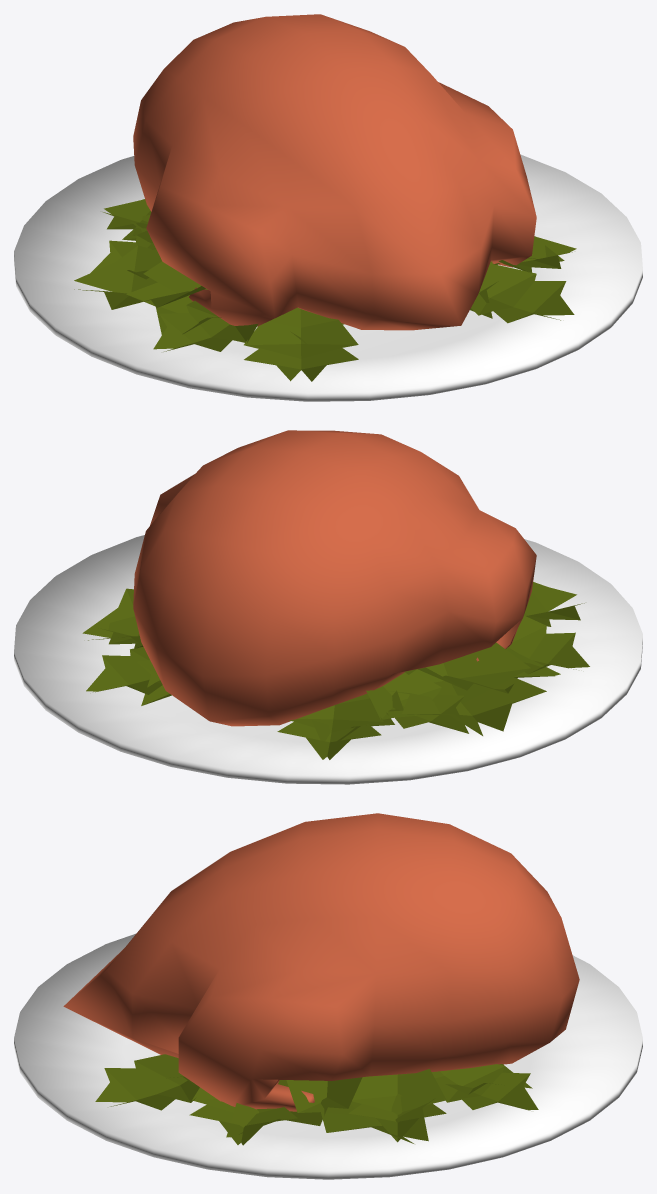
Rendered from Turkey.fbx.
3 renders of one model, top to bottom at view 1: azimuth 30°, elevation 25°; view 2: azimuth 150°, elevation 25°; view 3: azimuth 270°, elevation 25°, orthographic.
Parts seen in each view (by area): view 1: Cube, Cylinder, Cube.002, Cube.001; view 2: Cube, Cylinder, Cube.002, Cube.001; view 3: Cube, Cylinder, Cube.002, Cube.001.
Boxes of the visible parts, bbox=[...] form: Cube: bbox=[133, 14, 536, 330]; Cylinder: bbox=[14, 154, 642, 401]; Cube.002: bbox=[74, 215, 576, 381]; Cube.001: bbox=[91, 199, 564, 344]; Cube: bbox=[133, 430, 536, 726]; Cylinder: bbox=[14, 535, 642, 784]; Cube.002: bbox=[82, 582, 589, 741]; Cube.001: bbox=[86, 616, 560, 759]; Cube: bbox=[63, 813, 579, 1111]; Cylinder: bbox=[14, 933, 642, 1179]; Cube.002: bbox=[95, 1054, 532, 1145]; Cube.001: bbox=[166, 1064, 538, 1142].
Bounding box in the file's own units: 548 × 236 × 548.
